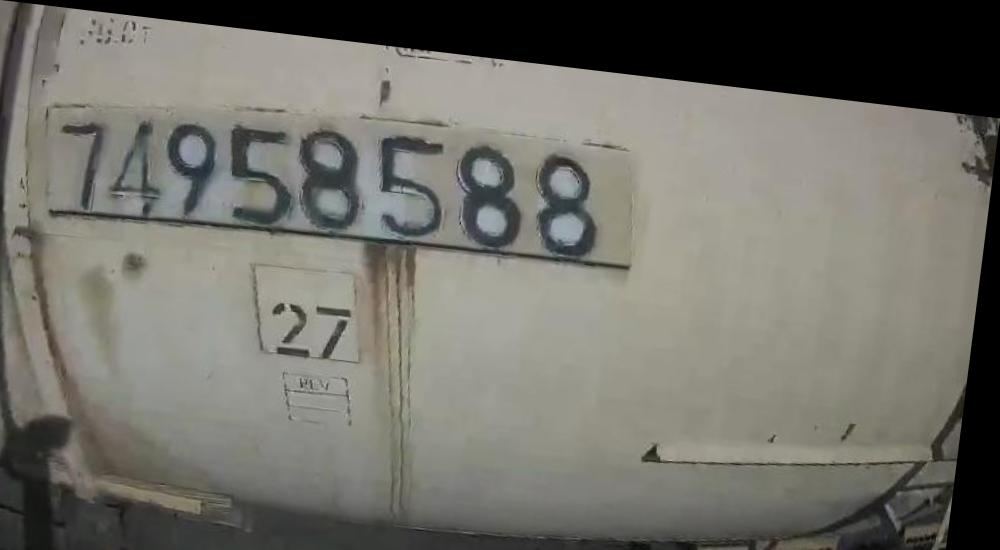Wagon-number: (53, 85, 616, 263)
